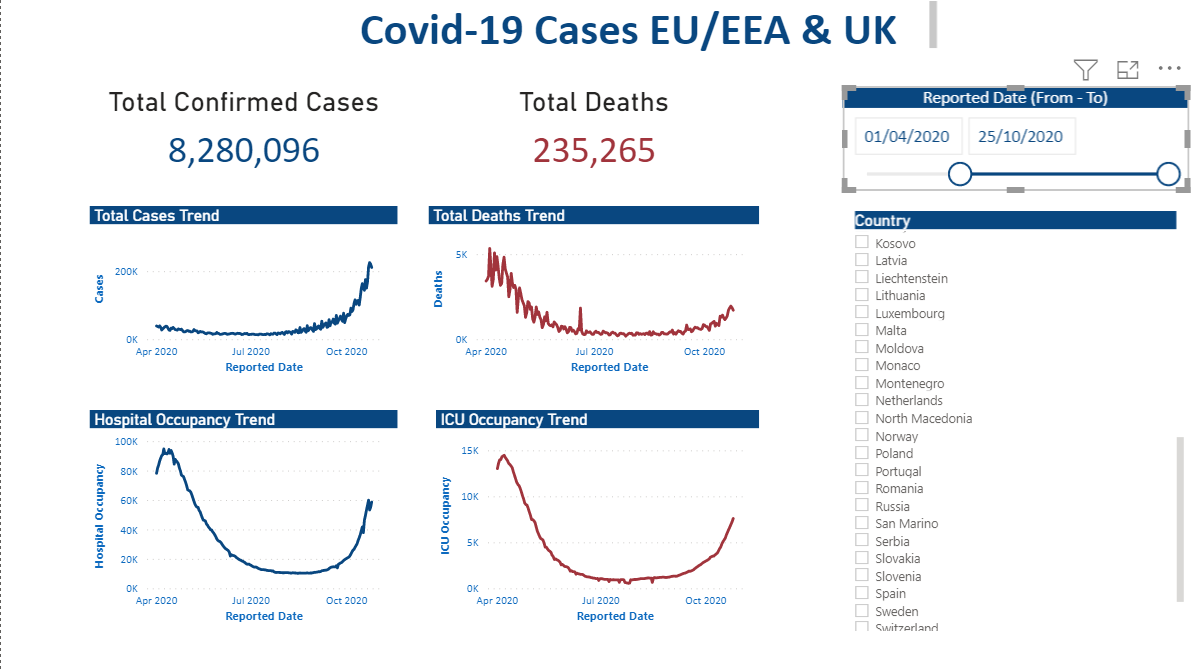

This screenshot's page, from the dashboard's own definition file:
{"tool":"powerbi","page":{"name":"Trends","canvas":[1280,720],"ordinal":0},"visuals":[{"type":"card","title":"Total Confirmed Cases","fields":{"Values":["Sum(covid_reporting cases_and_deaths.cases_count)"]},"box":[94.4,96,328,96],"z":0},{"type":"card","title":"Total Deaths","fields":{"Values":["Sum(covid_reporting cases_and_deaths.deaths_count)"]},"box":[454.4,96,352,96],"z":1000},{"type":"textbox","box":[376,0,624,64],"z":2000},{"type":"lineChart","title":"Total Cases Trend","fields":{"Category":["covid_reporting cases_and_deaths.reported_date"],"Y":["Sum(covid_reporting cases_and_deaths.cases_count)"]},"box":[94.4,224,328,184],"z":3000},{"type":"lineChart","title":"Total Deaths Trend","fields":{"Category":["covid_reporting cases_and_deaths.reported_date"],"Y":["Sum(covid_reporting cases_and_deaths.deaths_count)"]},"box":[454.4,224,352,184],"z":4000},{"type":"slicer","fields":{"Values":["covid_reporting cases_and_deaths.country"]},"box":[896,224,368,456],"z":5000},{"type":"lineChart","title":"Hospital Occupancy Trend","fields":{"Y":["Sum(covid_reporting hospital_admissions_daily.hospital_occupancy_count)"],"Category":["covid_reporting hospital_admissions_daily.reported_date"]},"box":[94.4,440,328,232],"z":6000},{"type":"lineChart","title":"ICU Occupancy Trend","fields":{"Y":["Sum(covid_reporting hospital_admissions_daily.icu_occupancy_count)"],"Category":["covid_reporting hospital_admissions_daily.reported_date"]},"box":[462.4,440,344,232],"z":7000},{"type":"slicer","title":"Reported Date (From - To)","fields":{"Values":["covid_reporting cases_and_deaths.reported_date"]},"box":[896,96,368,112],"z":8001}]}

Visuals, with their boxes in screenshot pixels (x1, y1, x2, y2), scaled from the page's 1280x720 canvas onto the 1203x672 screenshot:
"Total Confirmed Cases" card: box(89, 90, 397, 179)
"Total Deaths" card: box(427, 90, 758, 179)
textbox: box(353, 0, 940, 60)
"Total Cases Trend" lineChart: box(89, 209, 397, 381)
"Total Deaths Trend" lineChart: box(427, 209, 758, 381)
slicer - covid_reporting cases_and_deaths.country: box(842, 209, 1188, 635)
"Hospital Occupancy Trend" lineChart: box(89, 411, 397, 627)
"ICU Occupancy Trend" lineChart: box(435, 411, 758, 627)
"Reported Date (From - To)" slicer: box(842, 90, 1188, 194)
